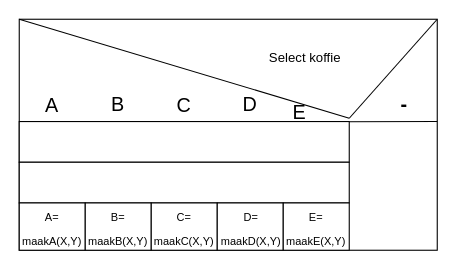
Image size: 458x270. Some labels were removed from this diagram. Here are the shapes that lost their labels. From the top down, the centre of each, then its label:
At [183,141]: "X = kies sterkte".
At [183,182]: "Y = kies grootte".
